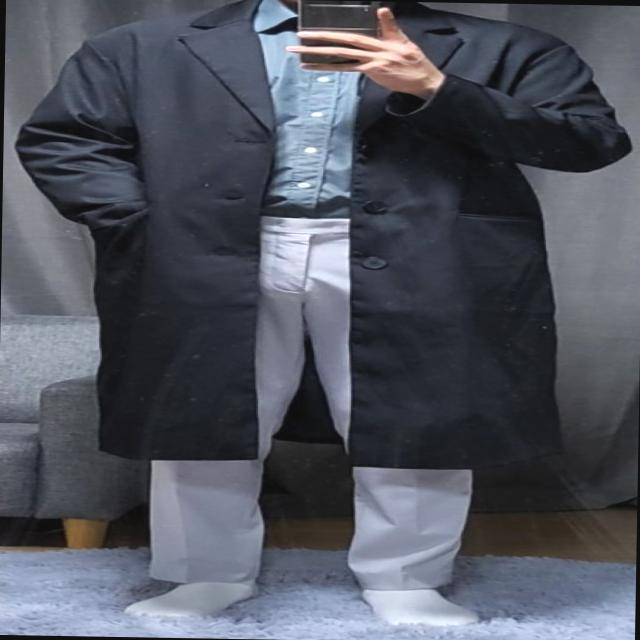coat: (12, 0, 626, 475)
slacks: (146, 212, 477, 592)
